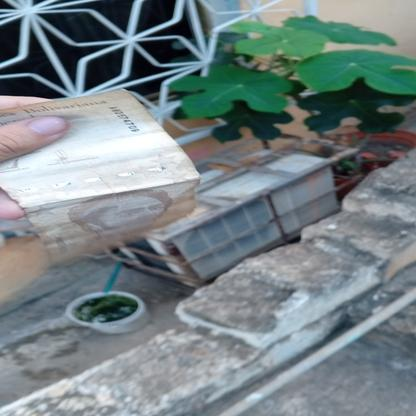five-front-vef: (0, 88, 201, 264)
